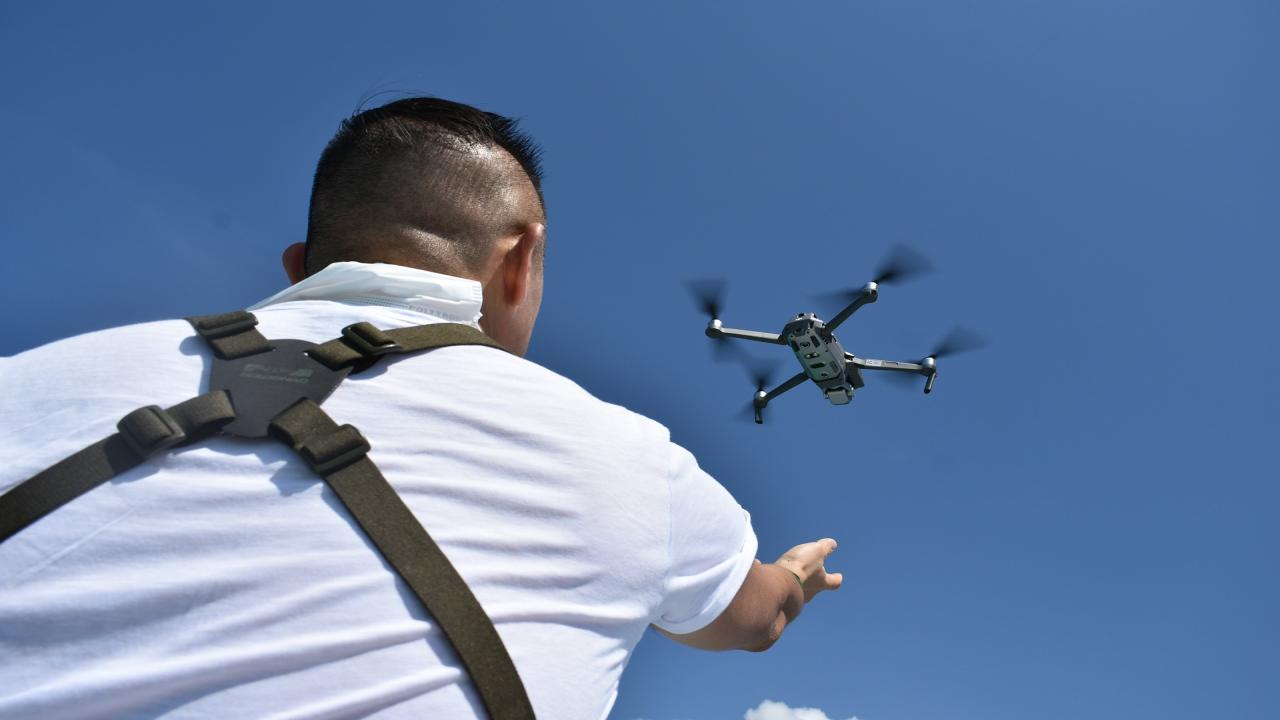Drone: (668, 221, 1011, 438)
